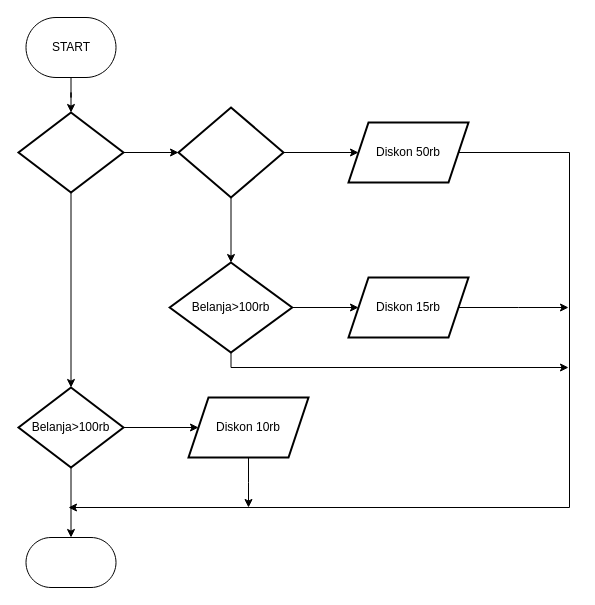
Some shapes in this 595 by 605 pixel diagram are drawn without their labels. Each missing label, with the centre of its shape:
"Belanja>500rb" belongs at (230,152).
"END" belongs at (70,562).
"MEMBER?" belongs at (70,152).
